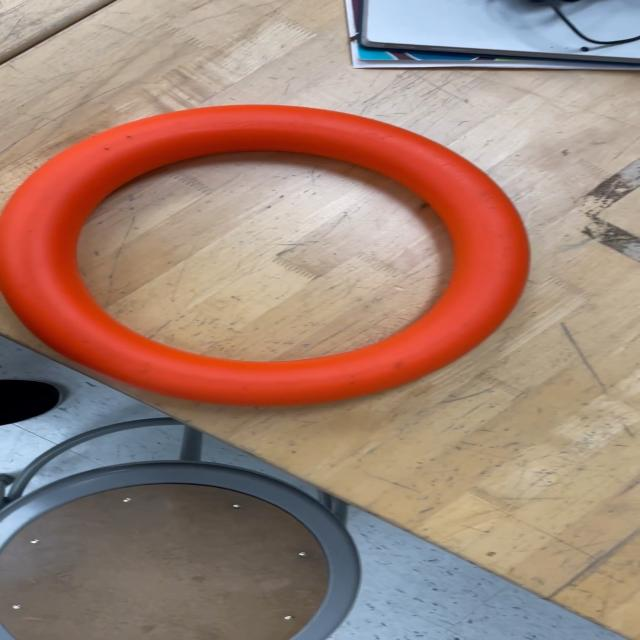note: (1, 101, 532, 410)
